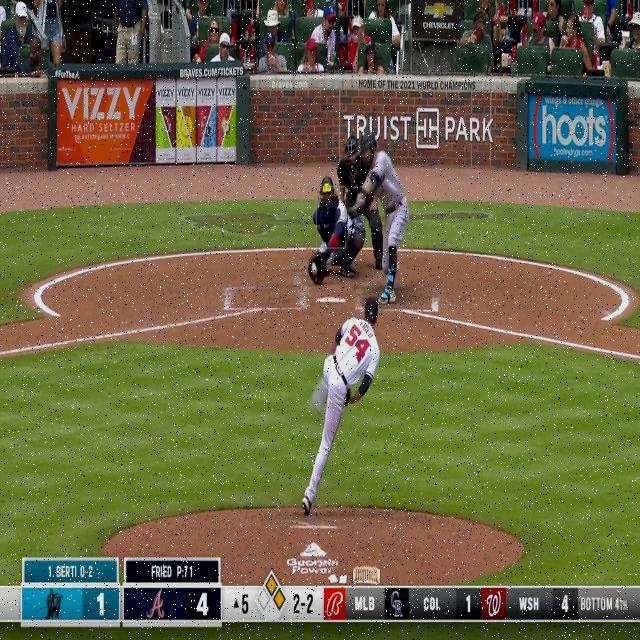baseball: (311, 261, 317, 275)
